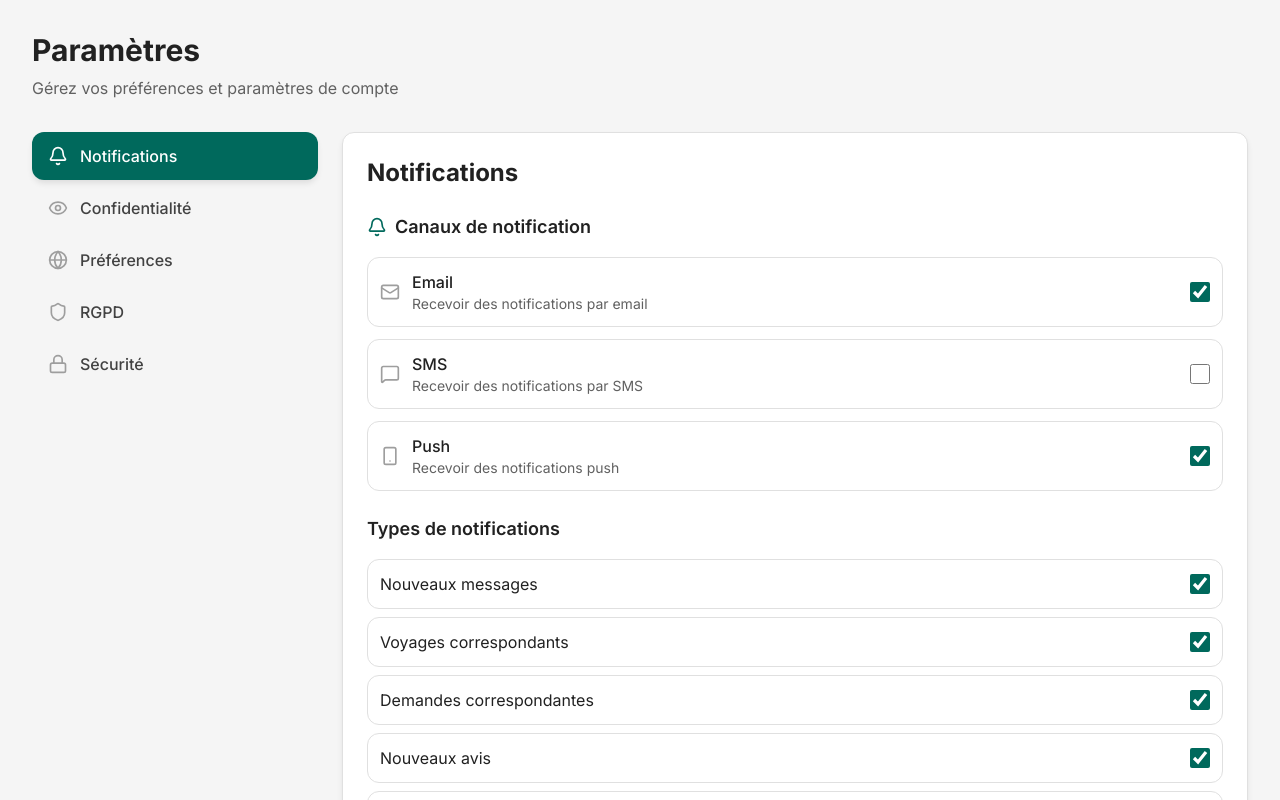
Test case: settings-client - logique metier › affiche l'onglet Notifications par defaut puis bascule sur l'onglet Confidentialite
Check: the heading "Notifications" is shown, box [367,158,518,187]
Click the button "Confidentialité" at (175, 208), box [32,184,318,232]
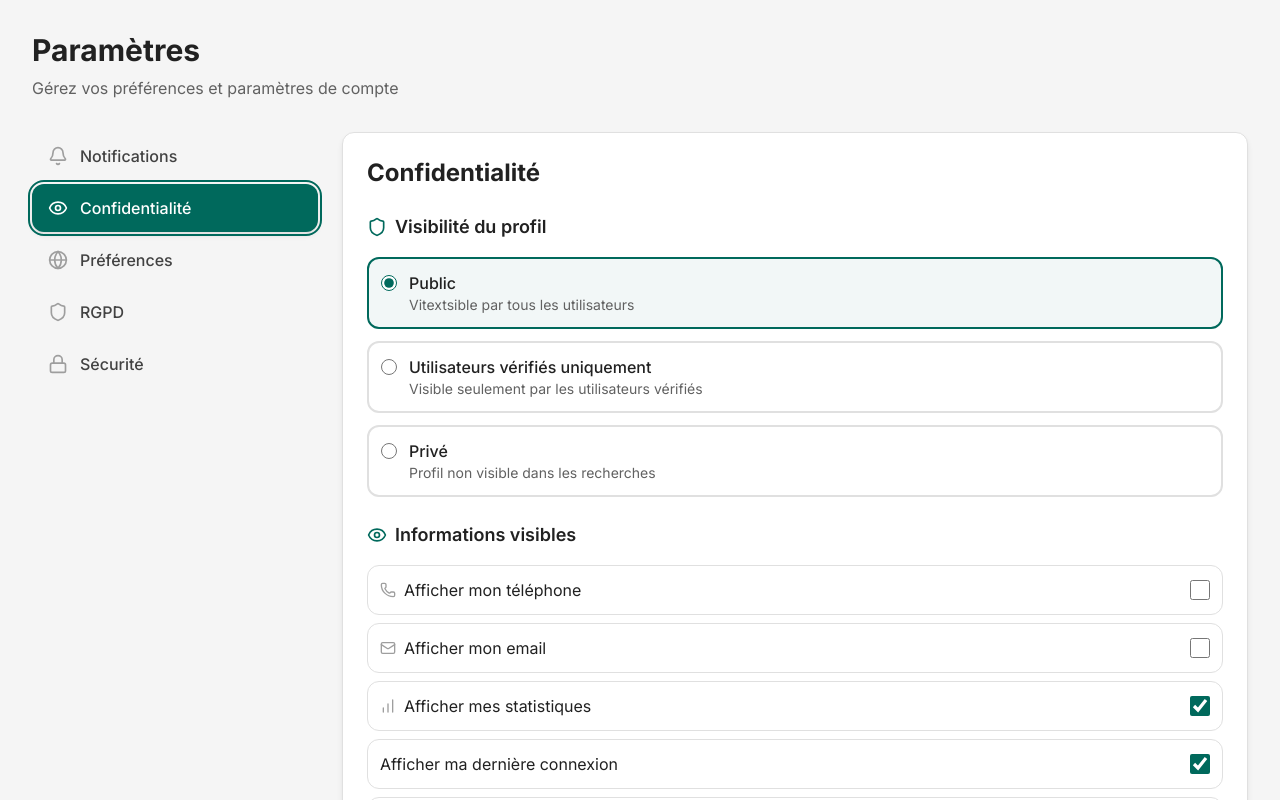
Check: the heading "Confidentialité" is shown, box [367,158,540,187]
